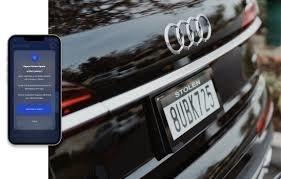license-plates: (164, 80, 221, 140)
